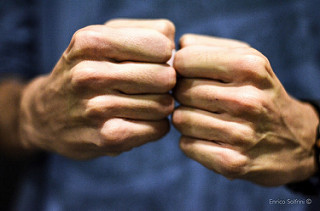fist: (181, 34, 285, 186), (82, 21, 176, 154)
